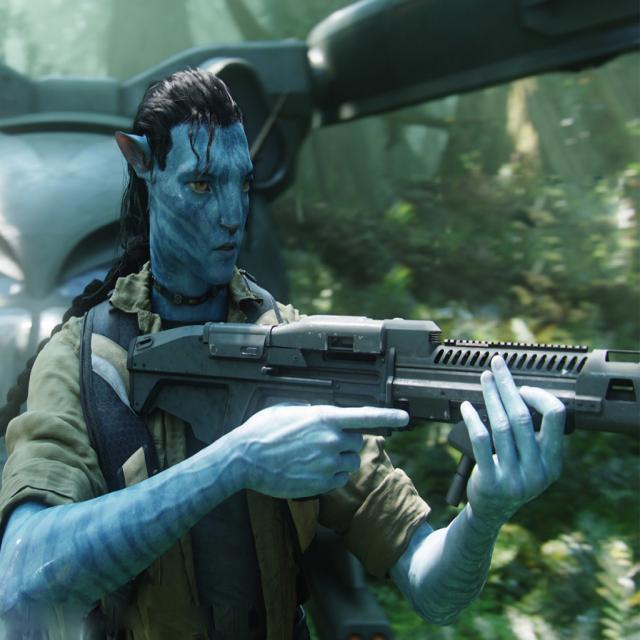weapon: (121, 316, 634, 506)
